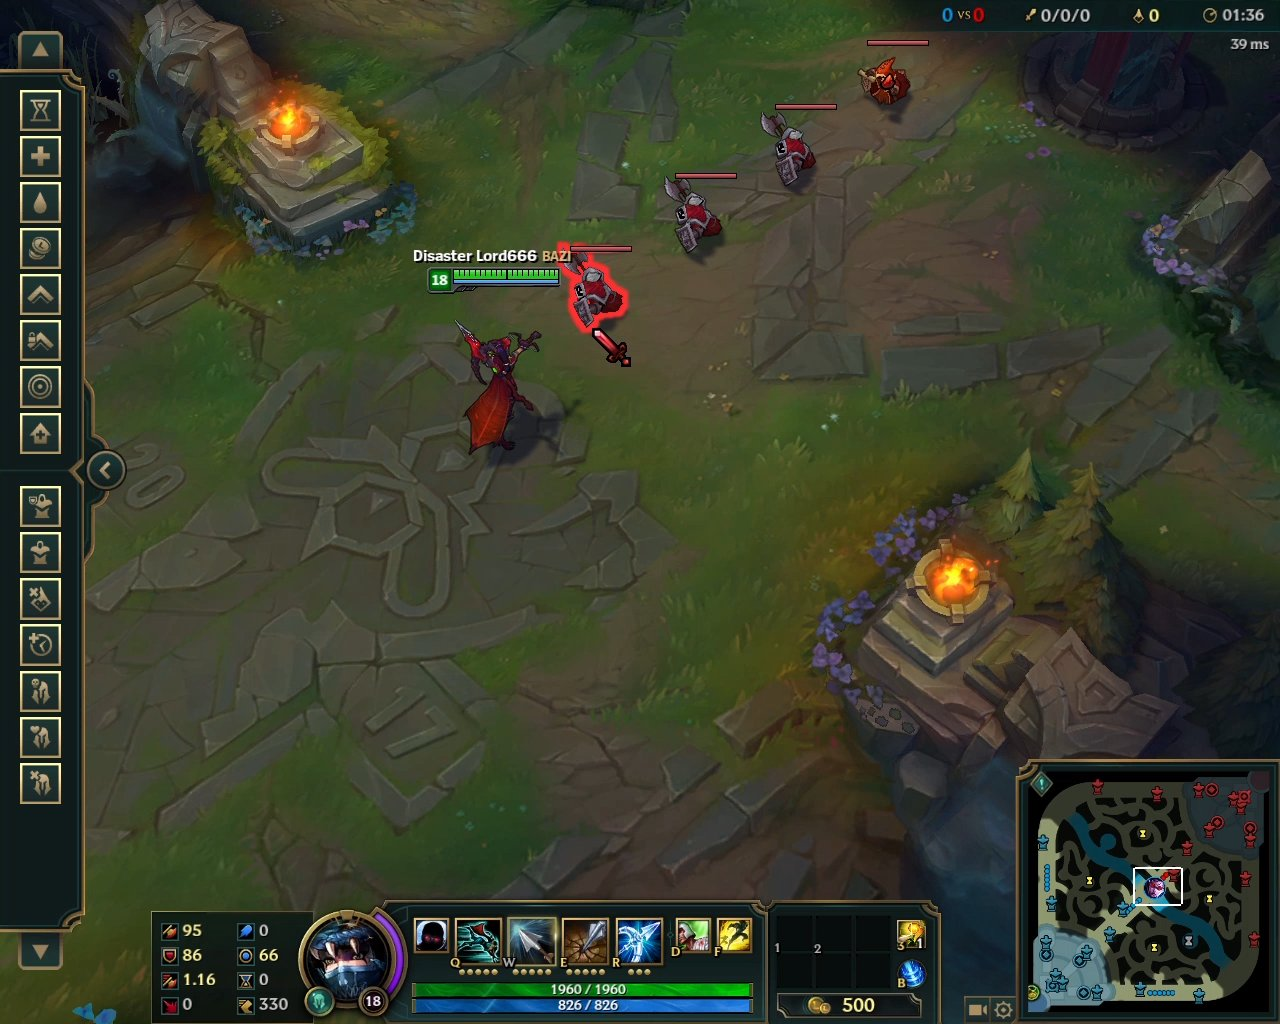EnemyMinion: (556, 241, 636, 332), (752, 104, 838, 187), (662, 171, 737, 257), (854, 41, 929, 107)
Vayne: (448, 315, 550, 467)
